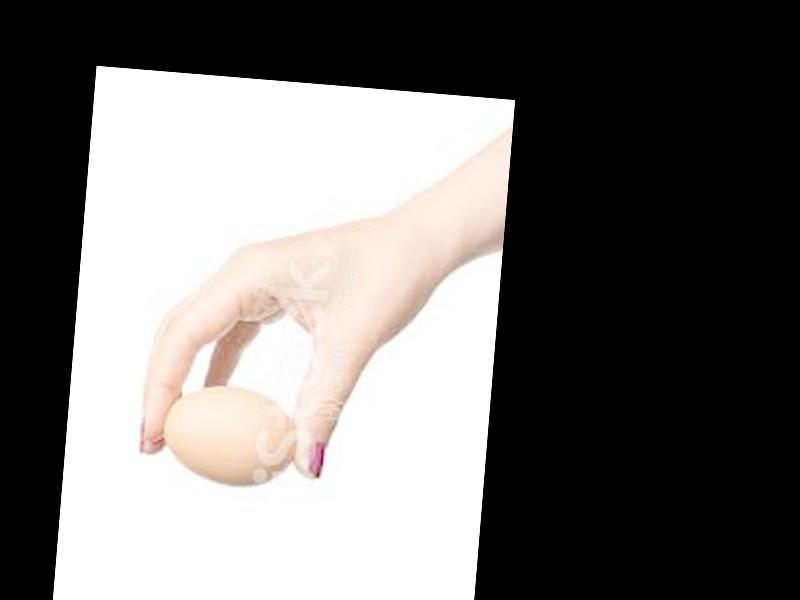Eggs: (160, 383, 301, 487)
